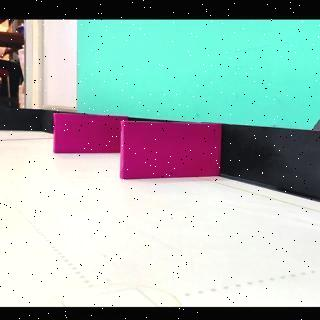xparking: (121, 125, 218, 176), (56, 116, 120, 152)
